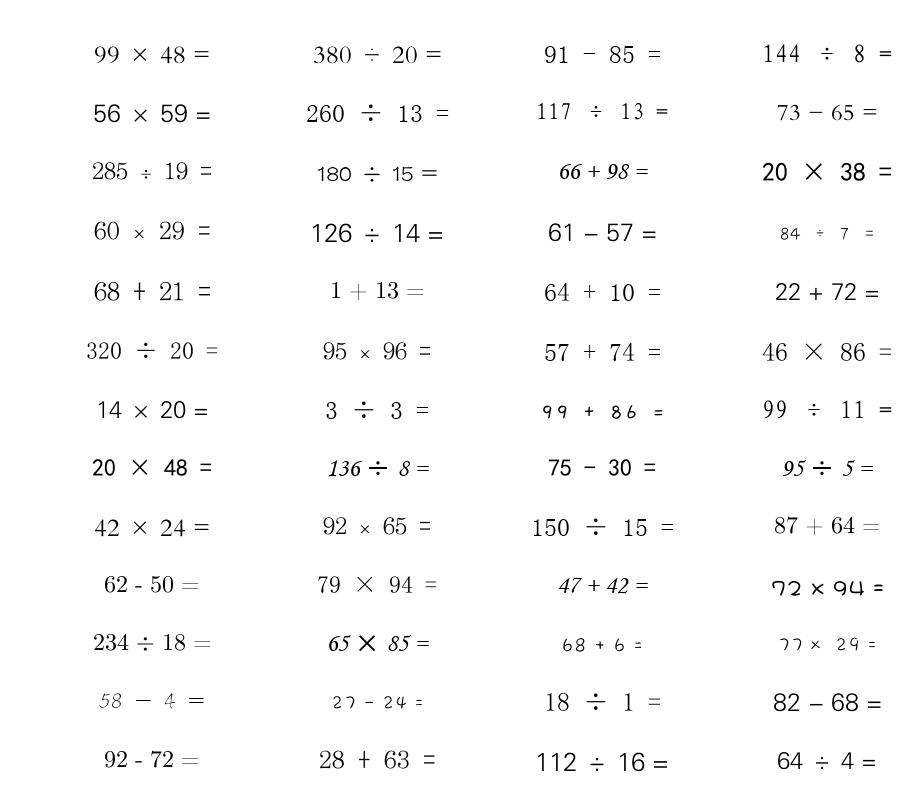MQ: (310, 223, 444, 243), (535, 752, 669, 772), (762, 162, 892, 182), (306, 104, 449, 122), (531, 518, 674, 536), (762, 44, 892, 63), (762, 400, 892, 419), (536, 102, 668, 120), (94, 281, 211, 301), (762, 343, 892, 361), (313, 46, 442, 64), (86, 342, 218, 359), (93, 104, 211, 123), (94, 221, 211, 240), (544, 692, 661, 711), (319, 750, 436, 769), (92, 162, 212, 180), (92, 459, 212, 477), (93, 633, 212, 651), (544, 283, 661, 301), (544, 343, 661, 361), (94, 46, 210, 64), (94, 519, 210, 537), (548, 223, 657, 242), (773, 693, 882, 712), (317, 576, 437, 593), (96, 401, 209, 419), (774, 516, 881, 535), (544, 46, 661, 63), (323, 342, 431, 360), (548, 459, 656, 477), (323, 517, 431, 535), (317, 166, 438, 182), (777, 751, 877, 770), (325, 401, 429, 419), (771, 580, 884, 596), (330, 281, 425, 300), (775, 283, 880, 300), (326, 460, 429, 477), (326, 635, 429, 652), (540, 405, 665, 419), (104, 575, 200, 593), (104, 750, 200, 768), (777, 104, 878, 121), (99, 693, 205, 709), (557, 577, 648, 594), (778, 637, 877, 652), (781, 460, 873, 476), (557, 164, 648, 179), (779, 227, 876, 241), (331, 696, 424, 710), (561, 638, 643, 653)
